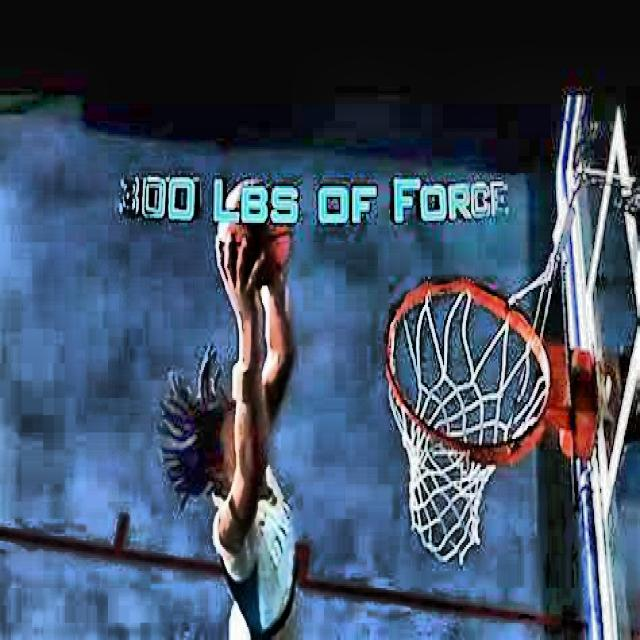rim: (385, 280, 553, 563)
